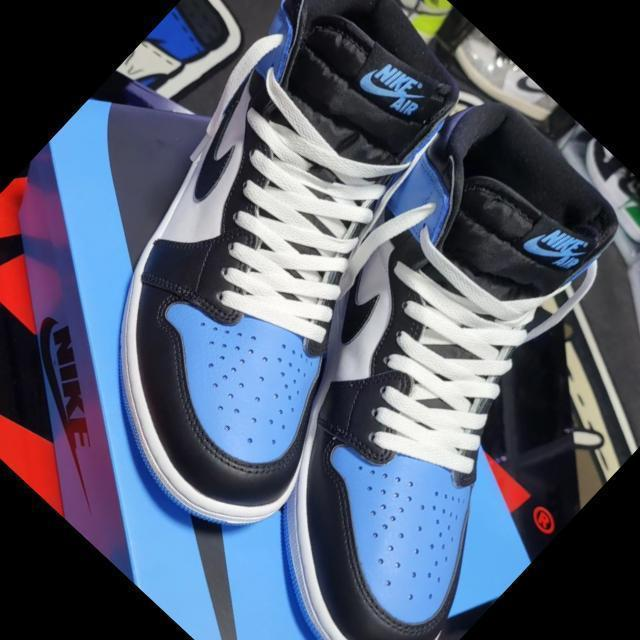nike original jordan 1: (0, 0, 587, 563), (120, 73, 640, 640)
